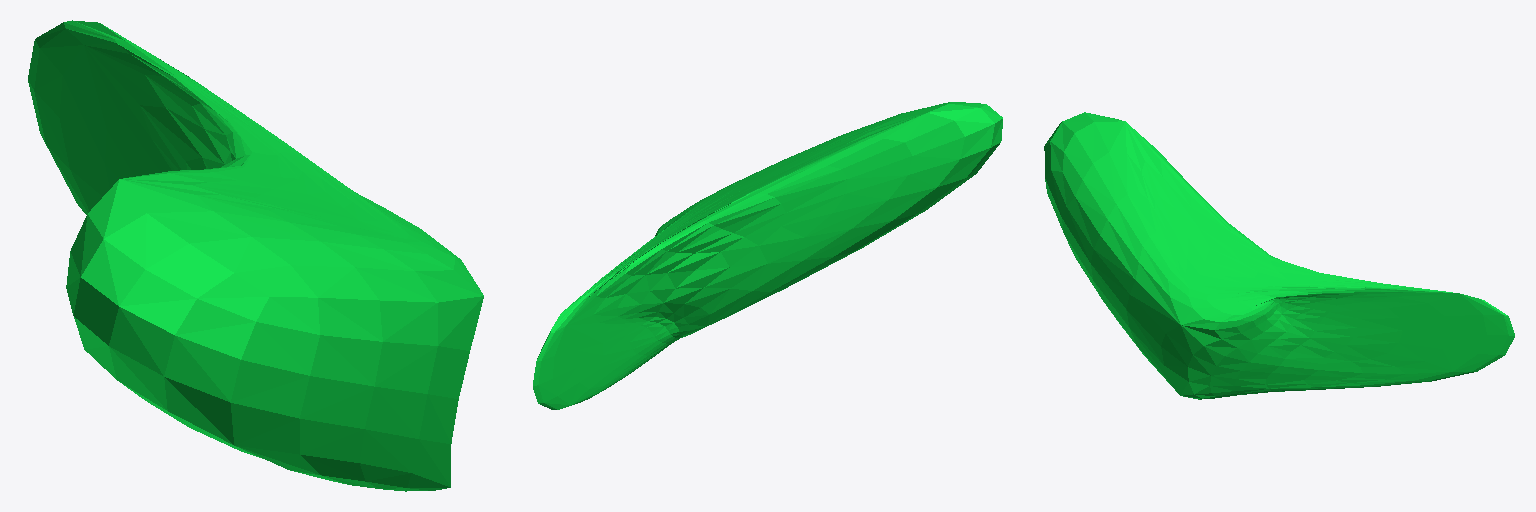
The robot description file, URDF, robot "blob799":

<robot name="blob799">
  <link name="random_obj_799">
    <contact>
      <lateral_friction value="1.0"/>
      <rolling_friction value="0.0"/>
      <inertia_scaling value="3.0"/>
      <contact_cfm value="0.0"/>
      <contact_erp value="1.0"/>
    </contact>
    <inertial>
      <origin rpy="0 0 0" xyz="0 0 0"/>
      <mass value="0.1653"/>
      <inertia ixx="1" ixy="0" ixz="0" iyy="1" iyz="0" izz="0"/>
    </inertial>
    <visual>
      <origin rpy="0 0 0" xyz="0 0 0"/>
      <geometry>
        <mesh filename="799.obj" scale="0.0081 0.0081 0.0081"/>
      </geometry>
      <material name="blockmat">
        <color rgba="0.10 0.90 0.33 1"/>
      </material>
    </visual>
    <collision>
      <origin rpy="0 0 0" xyz="0 0 0"/>
      <geometry>
        <mesh filename="799_coll.obj" scale="0.0081 0.0081 0.0081"/>
      </geometry>
    </collision>
  </link>
</robot>

--- Facts derived from the render (not from the file) ---
The picture shows the robot from 3 angles, left to right: view 1: azimuth 30°, elevation 25°; view 2: azimuth 150°, elevation 25°; view 3: azimuth 270°, elevation 25°; orthographic projection.
Model blob799 with 1 links and 0 joints (none), rooted at random_obj_799, posed every joint at zero.
Visible links, largest first — view 1: random_obj_799; view 2: random_obj_799; view 3: random_obj_799.
Boxes of the visible links, left/top/right/bottom form: random_obj_799: left=28, top=20, right=483, bottom=491; random_obj_799: left=533, top=102, right=1002, bottom=409; random_obj_799: left=1044, top=112, right=1514, bottom=399.
Size in the robot's own frame: 0.0723 by 0.1305 by 0.0599 metres.
1 mesh visuals loaded from 1 distinct referenced files (1 OBJ).
